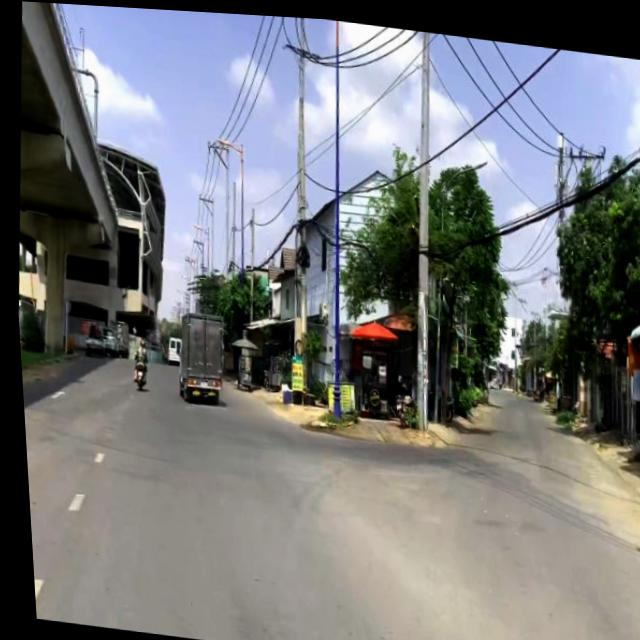Vong chuong ngai vat sang phai: (127, 323, 134, 334)
